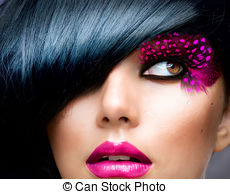face: (29, 1, 221, 181)
